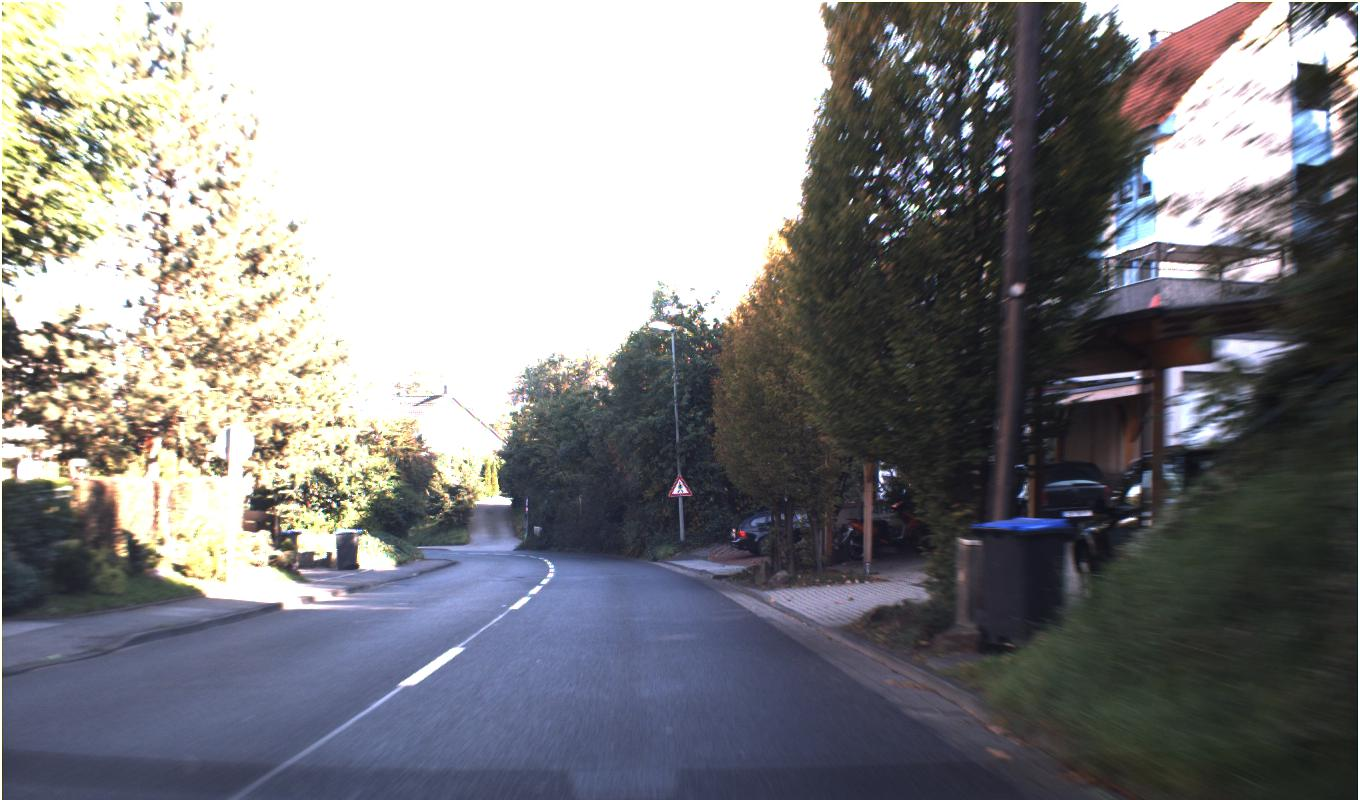danger: (667, 472, 692, 497)
